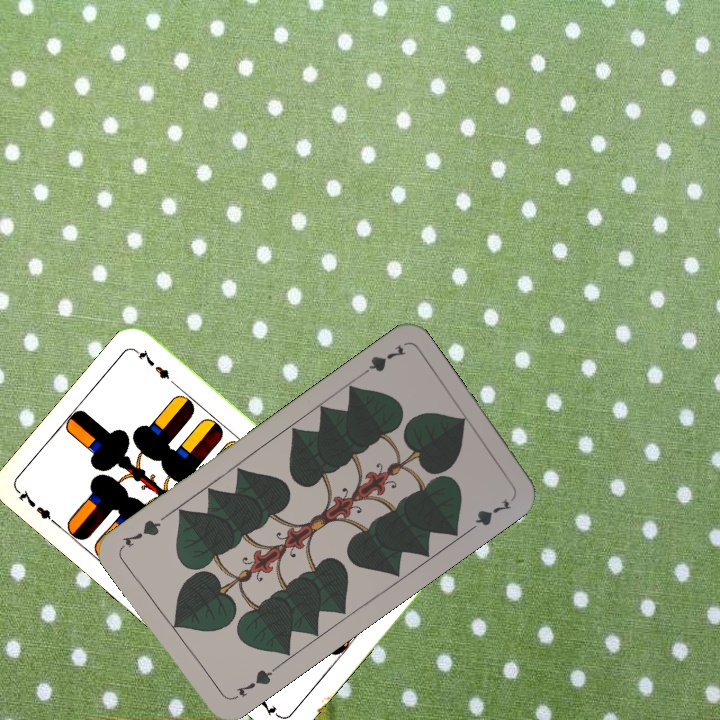E7: (14, 486, 63, 530)
G7: (354, 341, 409, 381), (228, 662, 279, 703)
